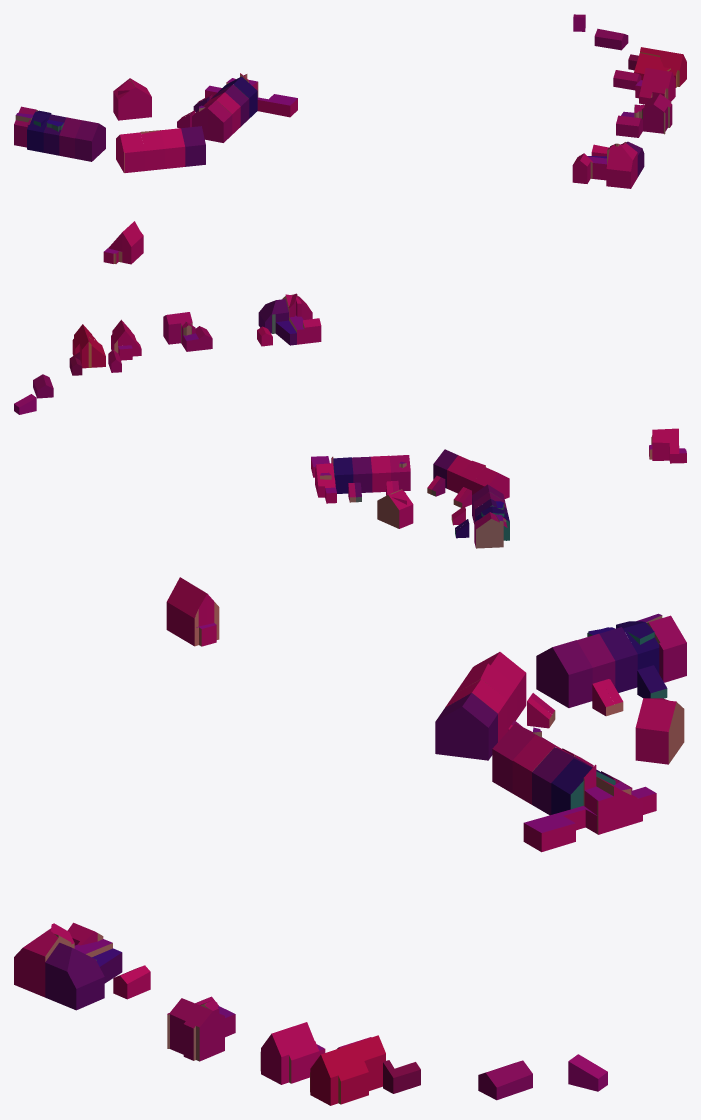
The model's file is buildings_12_4.glb.
3 renders of one model, top to bottom at view 1: azimuth 30°, elevation 25°; view 2: azimuth 150°, elevation 25°; view 3: azimuth 270°, elevation 25°, orthographic. The views are drawn at different scales.
Parts seen in each view (by area): view 1: buildings_12_4; view 2: buildings_12_4; view 3: buildings_12_4.
Boxes of the visible parts, left/top/right/bottom form: buildings_12_4: left=14, top=14, right=686, bottom=264; buildings_12_4: left=14, top=293, right=686, bottom=548; buildings_12_4: left=14, top=577, right=686, bottom=1105.
Size of the model in its own units: 200 by 11.33 by 116.
